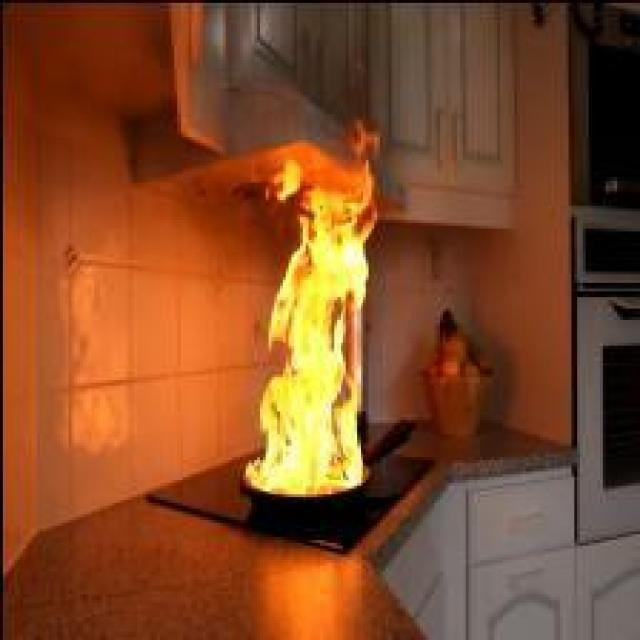Fire: (244, 130, 381, 497)
